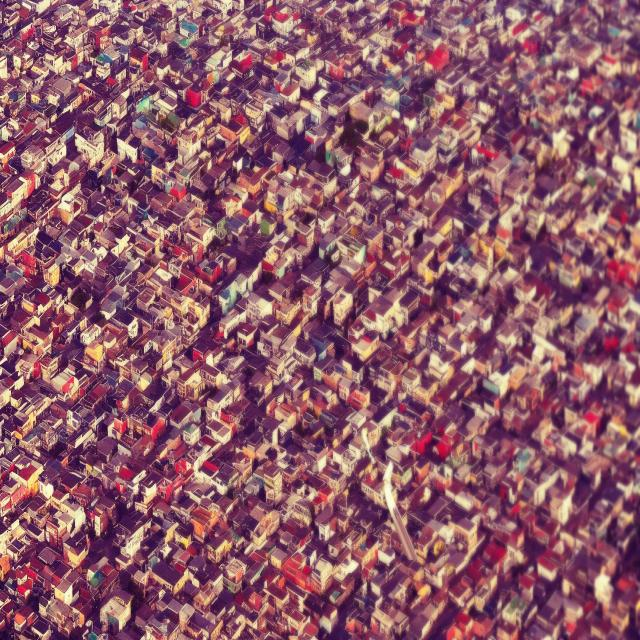airplane: (382, 460, 417, 559), (360, 427, 374, 462)
